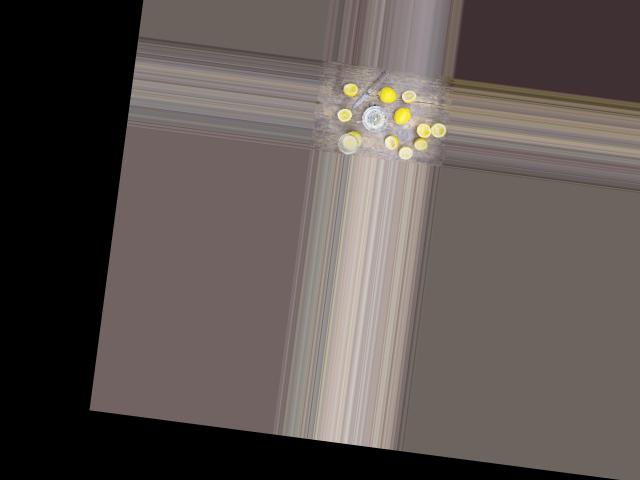lemon: (377, 86, 403, 107)
